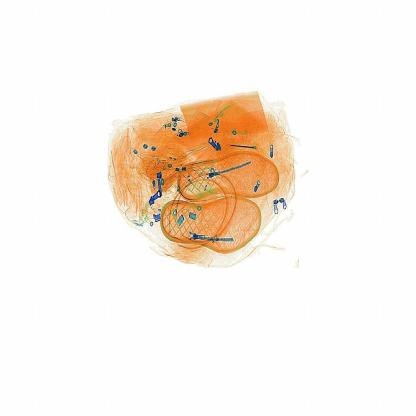wrench: (224, 142, 269, 154)
